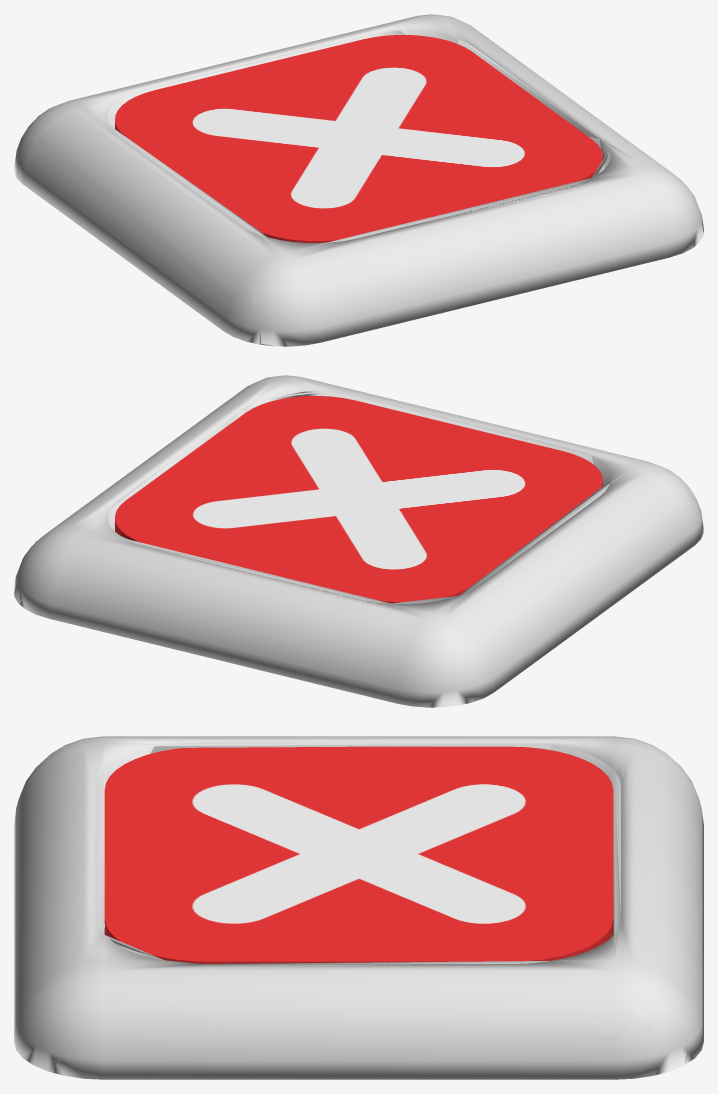
Rendered from marblemaze-models-hazard-landmine.fbx.
3 renders of one model, top to bottom at view 1: azimuth 30°, elevation 25°; view 2: azimuth 150°, elevation 25°; view 3: azimuth 270°, elevation 25°, orthographic. The views are drawn at different scales.
Visible parts, largest first — view 1: Landmine-Base.001, Landmine-Button, Landmine-Button.001, Landmine-Base; view 2: Landmine-Base.001, Landmine-Button, Landmine-Button.001, Landmine-Base; view 3: Landmine-Base.001, Landmine-Button, Landmine-Button.001, Landmine-Base.
Part boxes in pixels (<box>): Landmine-Base.001: <box>14,14,703,346</box>; Landmine-Button: <box>115,35,602,240</box>; Landmine-Button.001: <box>115,35,602,242</box>; Landmine-Base: <box>24,21,703,346</box>; Landmine-Base.001: <box>14,375,703,707</box>; Landmine-Button: <box>115,396,602,601</box>; Landmine-Button.001: <box>115,396,602,603</box>; Landmine-Base: <box>19,377,698,689</box>; Landmine-Base.001: <box>14,736,703,1079</box>; Landmine-Button: <box>109,746,608,961</box>; Landmine-Button.001: <box>104,746,613,963</box>; Landmine-Base: <box>33,738,691,1070</box>.
Size of the model in its own units: 100 by 13.09 by 100.
